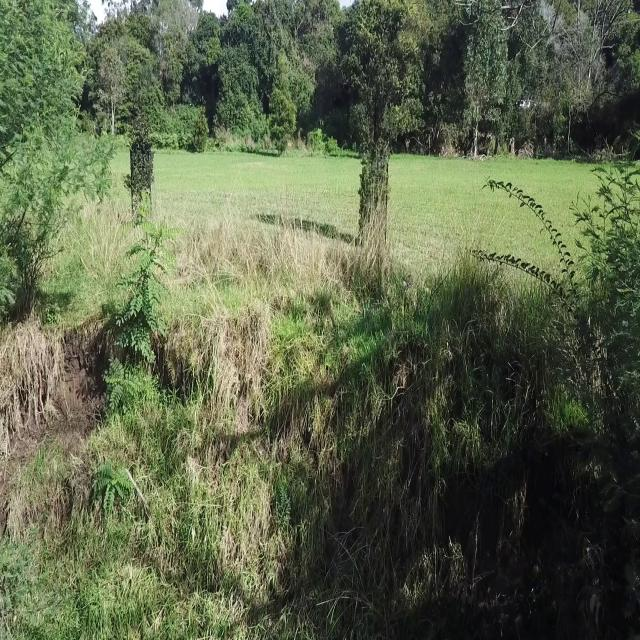Mysore-Thorn-Weed: (102, 222, 164, 392), (93, 456, 137, 524)
